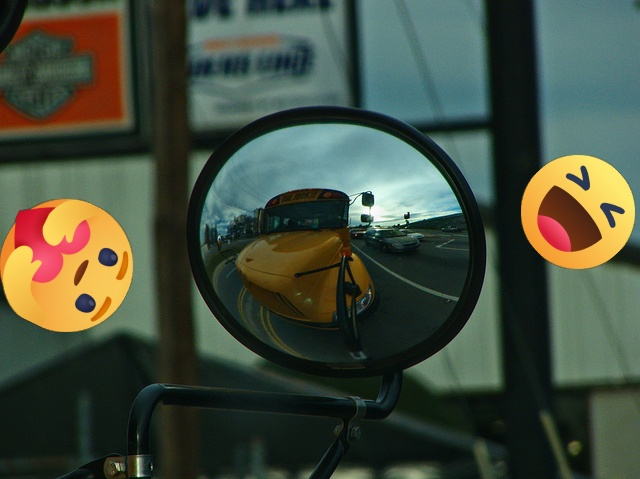care: (0, 199, 133, 332)
haha: (521, 155, 635, 269)
